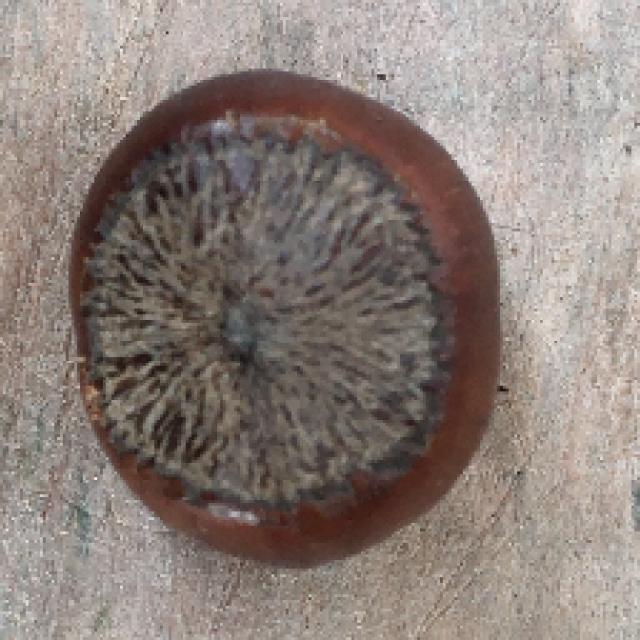damagedHazelnut: (60, 51, 512, 571)
